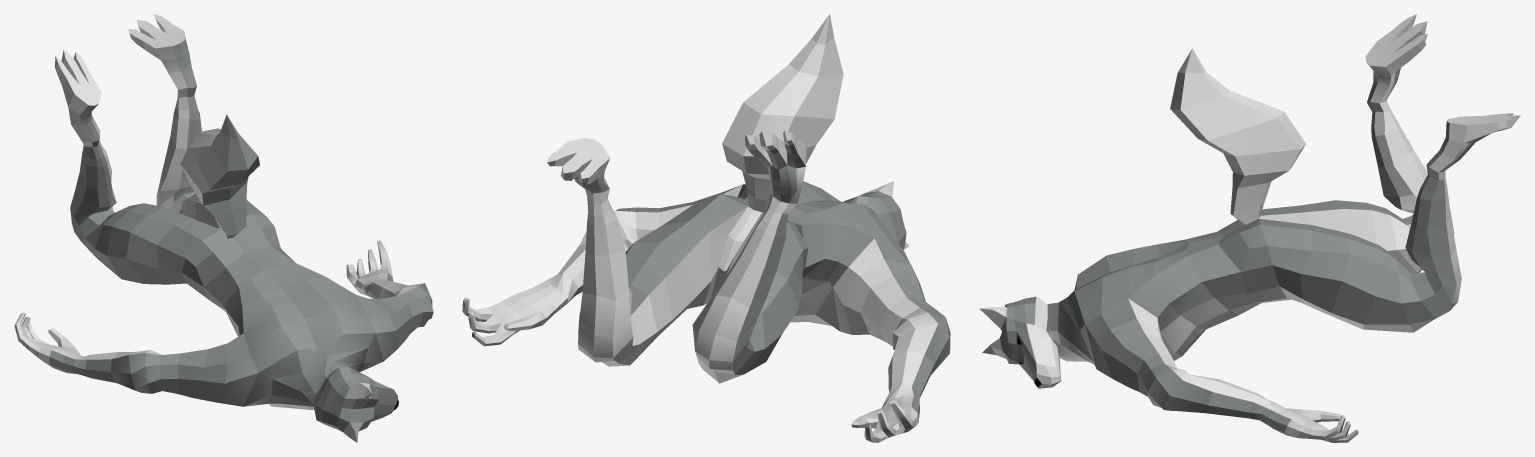
Rendered from WolfDead(76).obj.
3 views of the same model, side by side, from view 1: azimuth 30°, elevation 25°; view 2: azimuth 150°, elevation 25°; view 3: azimuth 270°, elevation 25° (orthographic). The views are drawn at different scales.
Parts seen in each view (by area): view 1: Box001; view 2: Box001; view 3: Box001.
Part boxes in pixels (x1,y1,x2,y2): Box001: (14, 14, 433, 442); Box001: (462, 14, 950, 442); Box001: (979, 14, 1520, 442).
Bounding box in the file's own units: 114 × 81.94 × 135.
